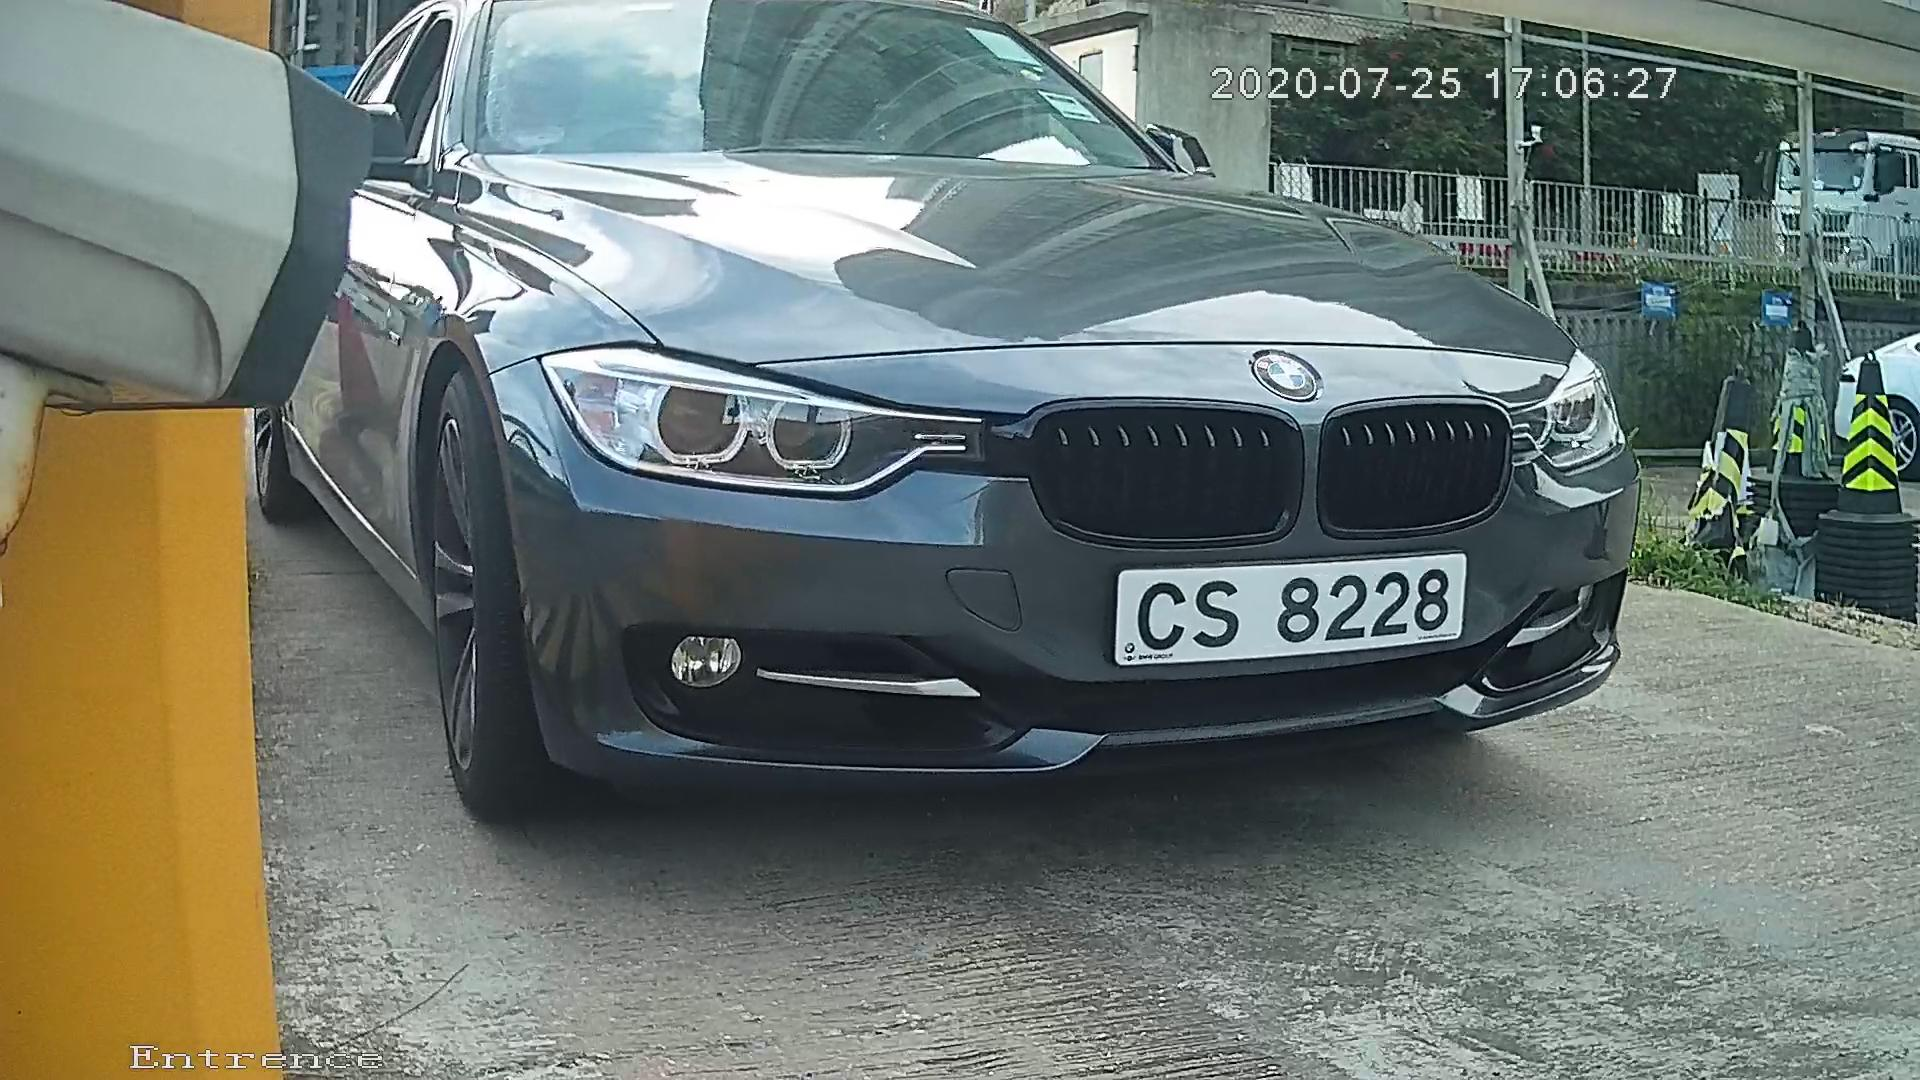Car: (163, 1, 1835, 864)
License Plate: (1072, 541, 1518, 680)
